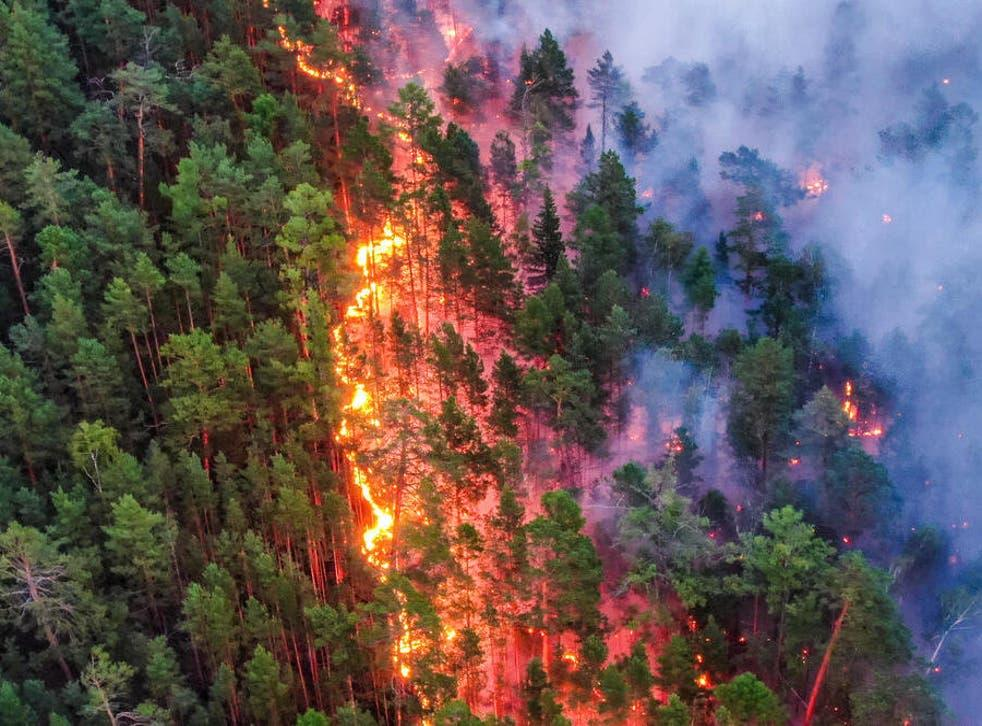fire: (259, 2, 923, 726)
